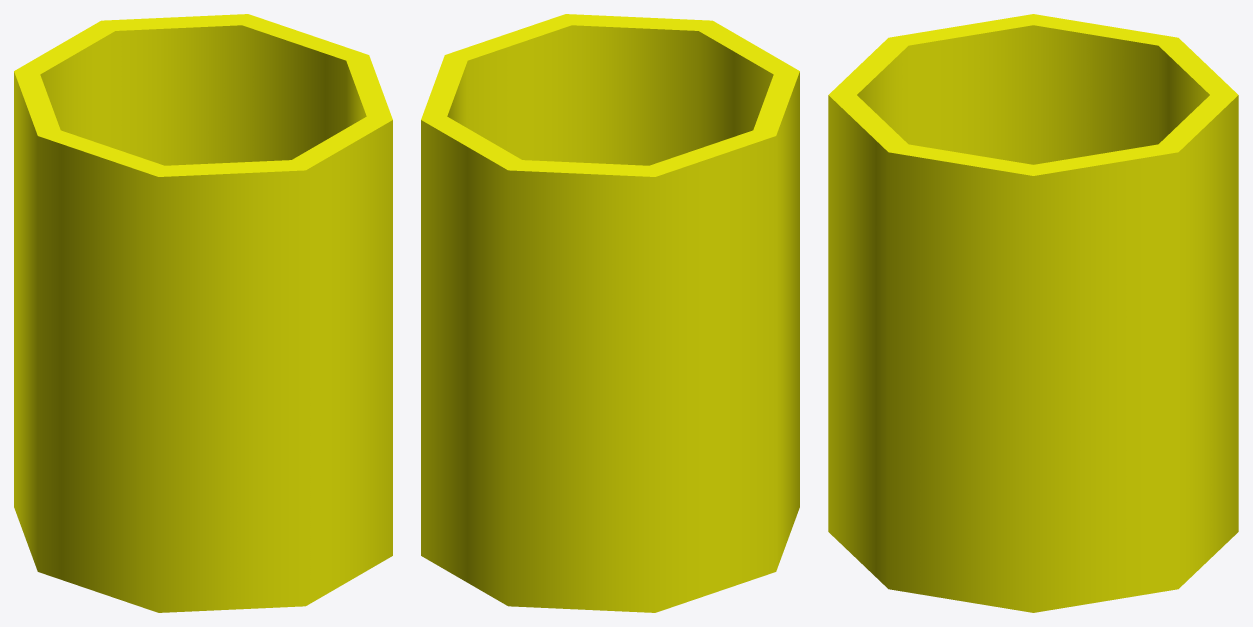
File: WallLamp_Up.fbx
3 views of the same model, side by side, from view 1: azimuth 30°, elevation 25°; view 2: azimuth 150°, elevation 25°; view 3: azimuth 270°, elevation 25° (orthographic).
Parts seen in each view (by area): view 1: polySurface2; view 2: polySurface2; view 3: polySurface2.
Part boxes in pixels (x1,y1,x2,y2): polySurface2: (14,14,392,612); polySurface2: (421,14,799,612); polySurface2: (828,14,1238,612).
Size of the model in its own units: 0.1225 by 0.1539 by 0.131.
